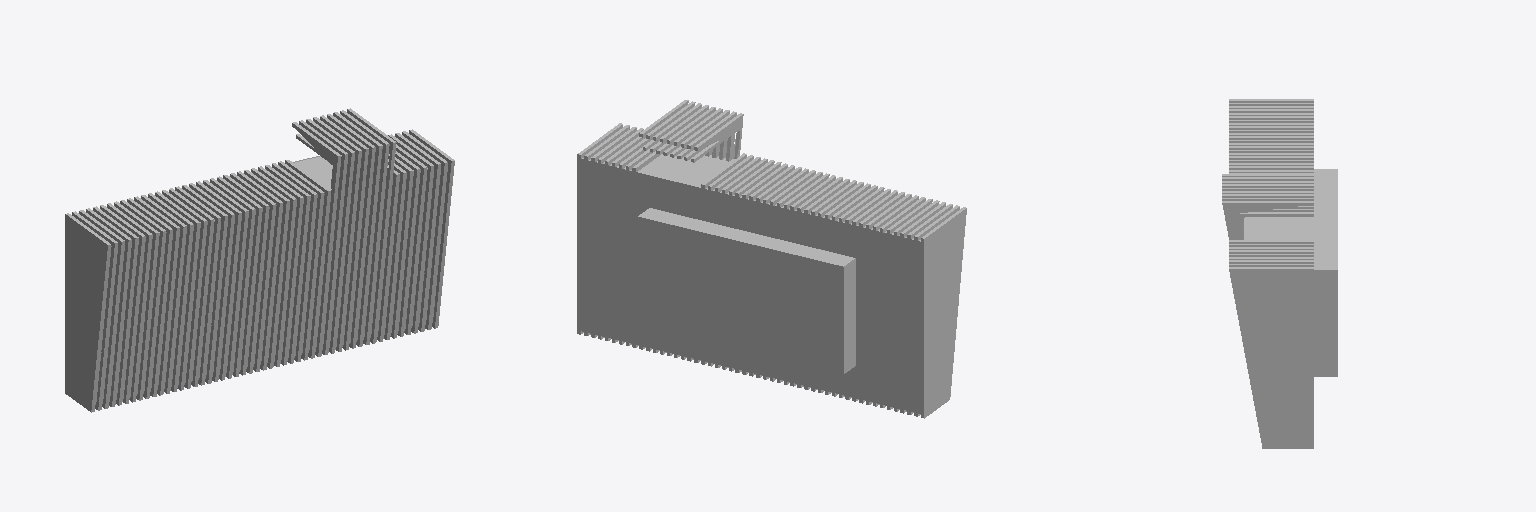
3 renders of one model, left to right at view 1: azimuth 30°, elevation 25°; view 2: azimuth 150°, elevation 25°; view 3: azimuth 270°, elevation 25°, orthographic.
Parts seen in each view (by area): view 1: GenericFloor_20, Glazing_DoublePane_Clear_80; view 2: GenericFloor_20, Water_Surface, Glazing_DoublePane_Clear_80; view 3: GenericFloor_20, Water_Surface, Glazing_DoublePane_Clear_80.
Boxes of the visible parts, x1,y1,x2,y2 form: GenericFloor_20: [65, 108, 454, 412]; Glazing_DoublePane_Clear_80: [95, 156, 447, 404]; GenericFloor_20: [577, 100, 966, 418]; Water_Surface: [638, 208, 855, 374]; Glazing_DoublePane_Clear_80: [582, 150, 920, 241]; GenericFloor_20: [1222, 99, 1313, 448]; Water_Surface: [1314, 169, 1337, 376]; Glazing_DoublePane_Clear_80: [1244, 217, 1313, 239].
Bounding box in the file's own units: 50.5 × 30 × 14.59.